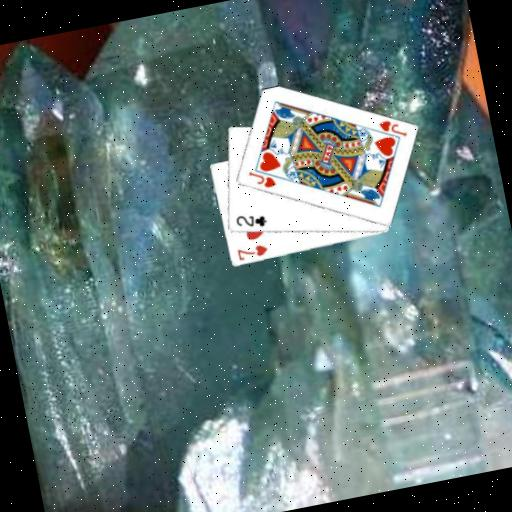2C: (231, 208, 268, 233)
7H: (234, 241, 270, 263)
JH: (245, 164, 279, 193), (375, 114, 409, 143)
